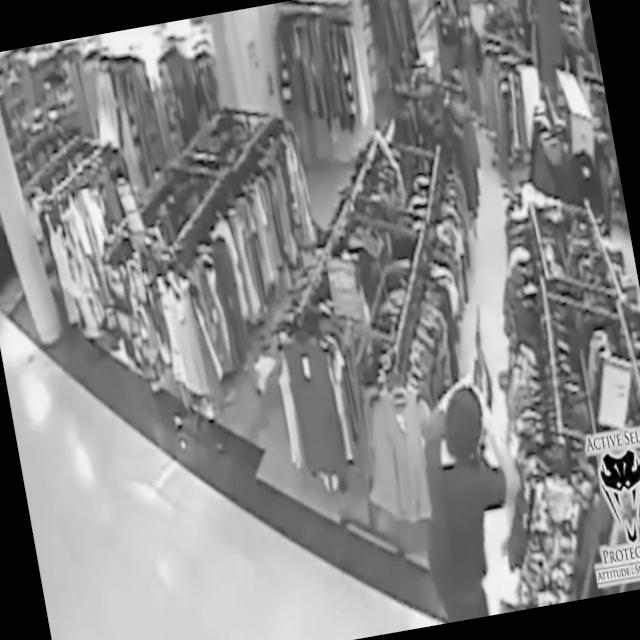gun: (462, 302, 503, 416)
person with a gun: (388, 302, 540, 616)
